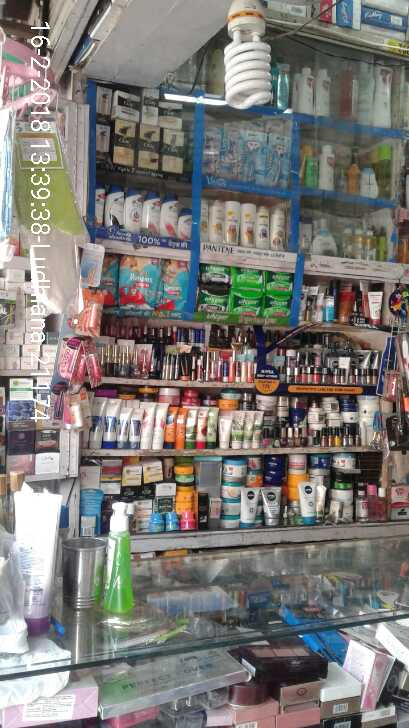venus: (241, 129, 267, 183), (215, 129, 241, 176), (267, 136, 291, 183)
